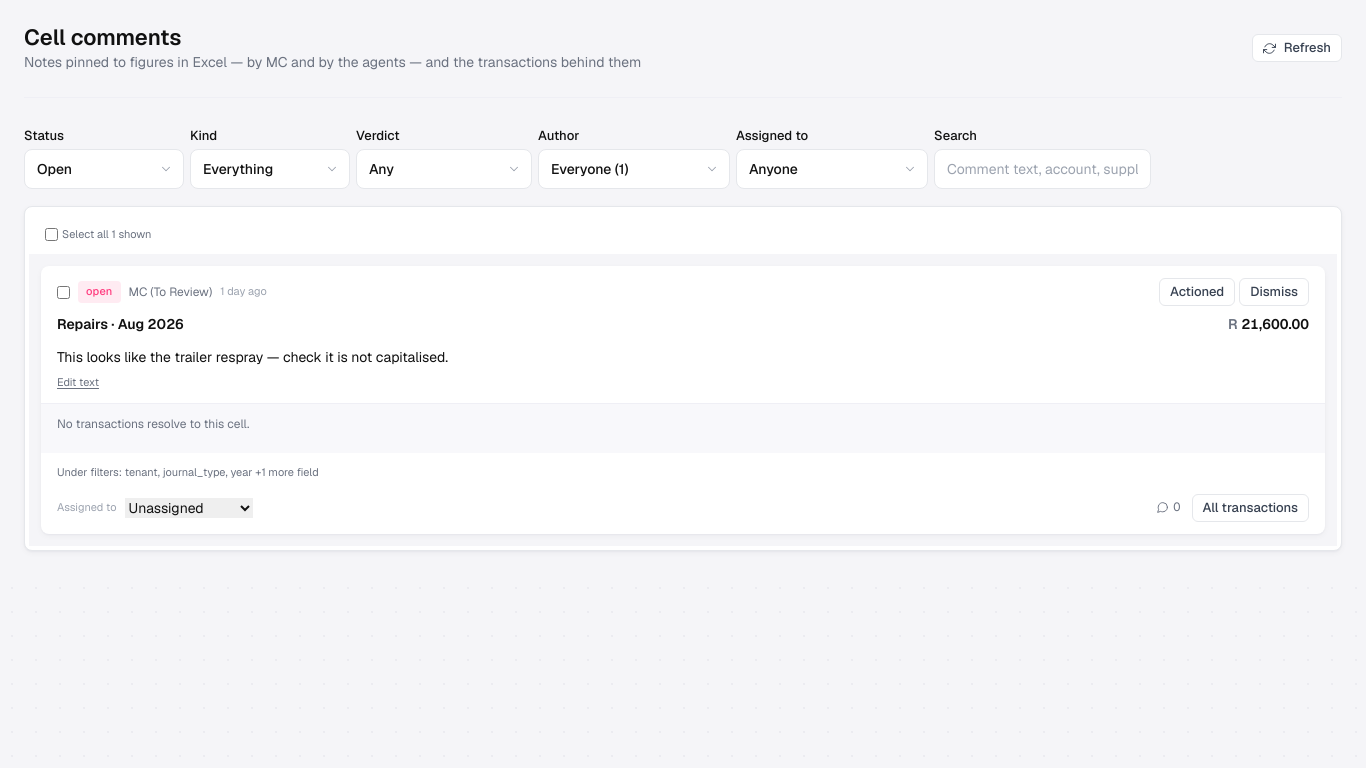
AuditComments — the anchor filter context › says "fields" where it counts fields — never a bare "+1 more"
Click the button with class "cc__context-toggle": coordinates (188, 473) [57,465,319,481]
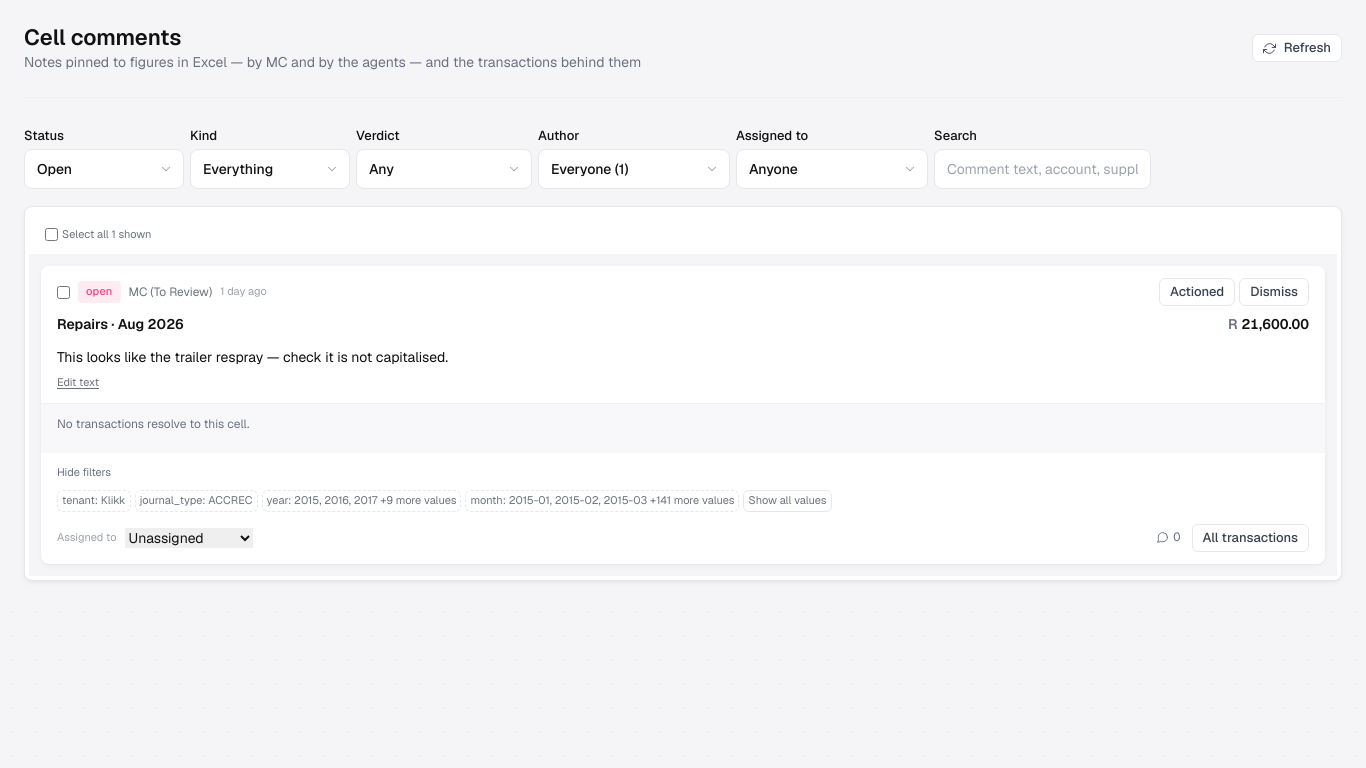
Expected: the text with class "cc__filter" shows "more values", [470,493,734,507]
